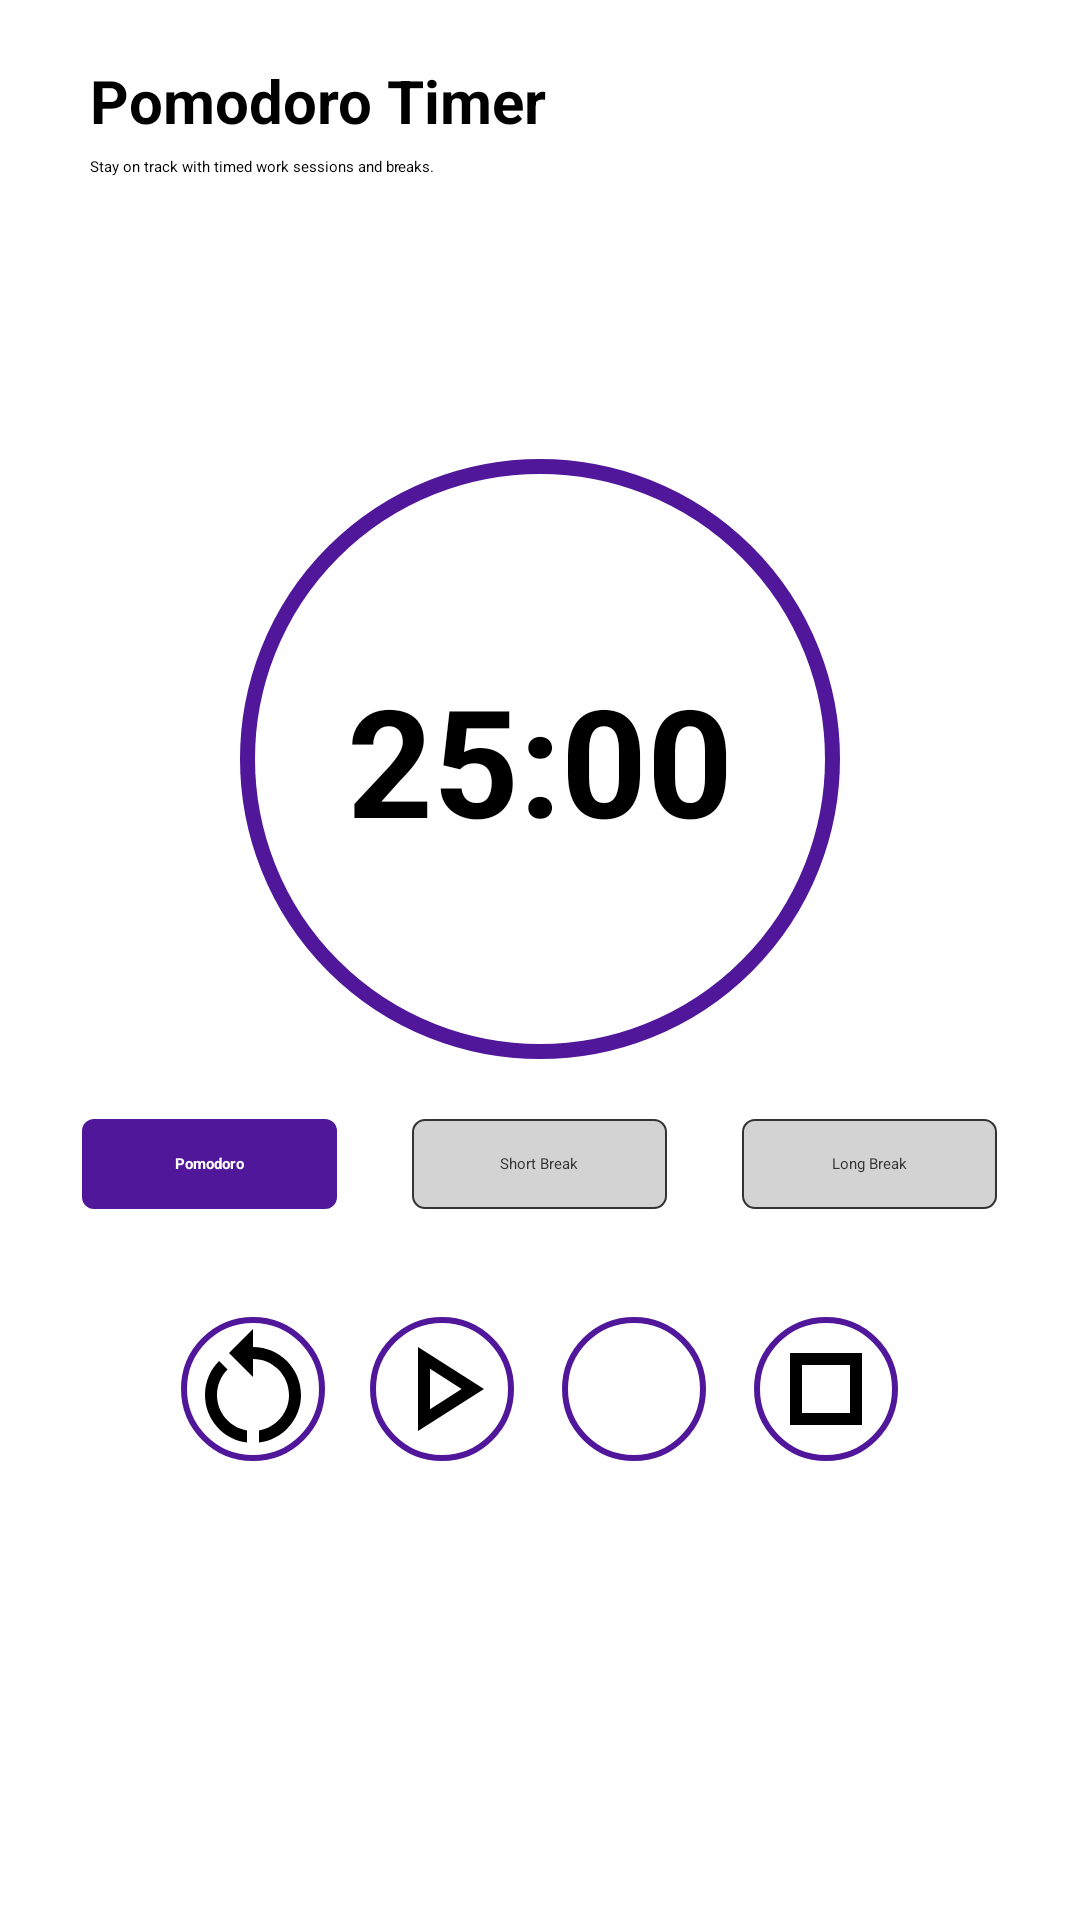

Screen size 1080px x 1920px. Icon name, then its box in pixels as (x1, y1, x2, y2):
playarrow: (370, 1317, 514, 1461)
restart: (181, 1317, 325, 1461)
stop: (754, 1317, 898, 1461)
